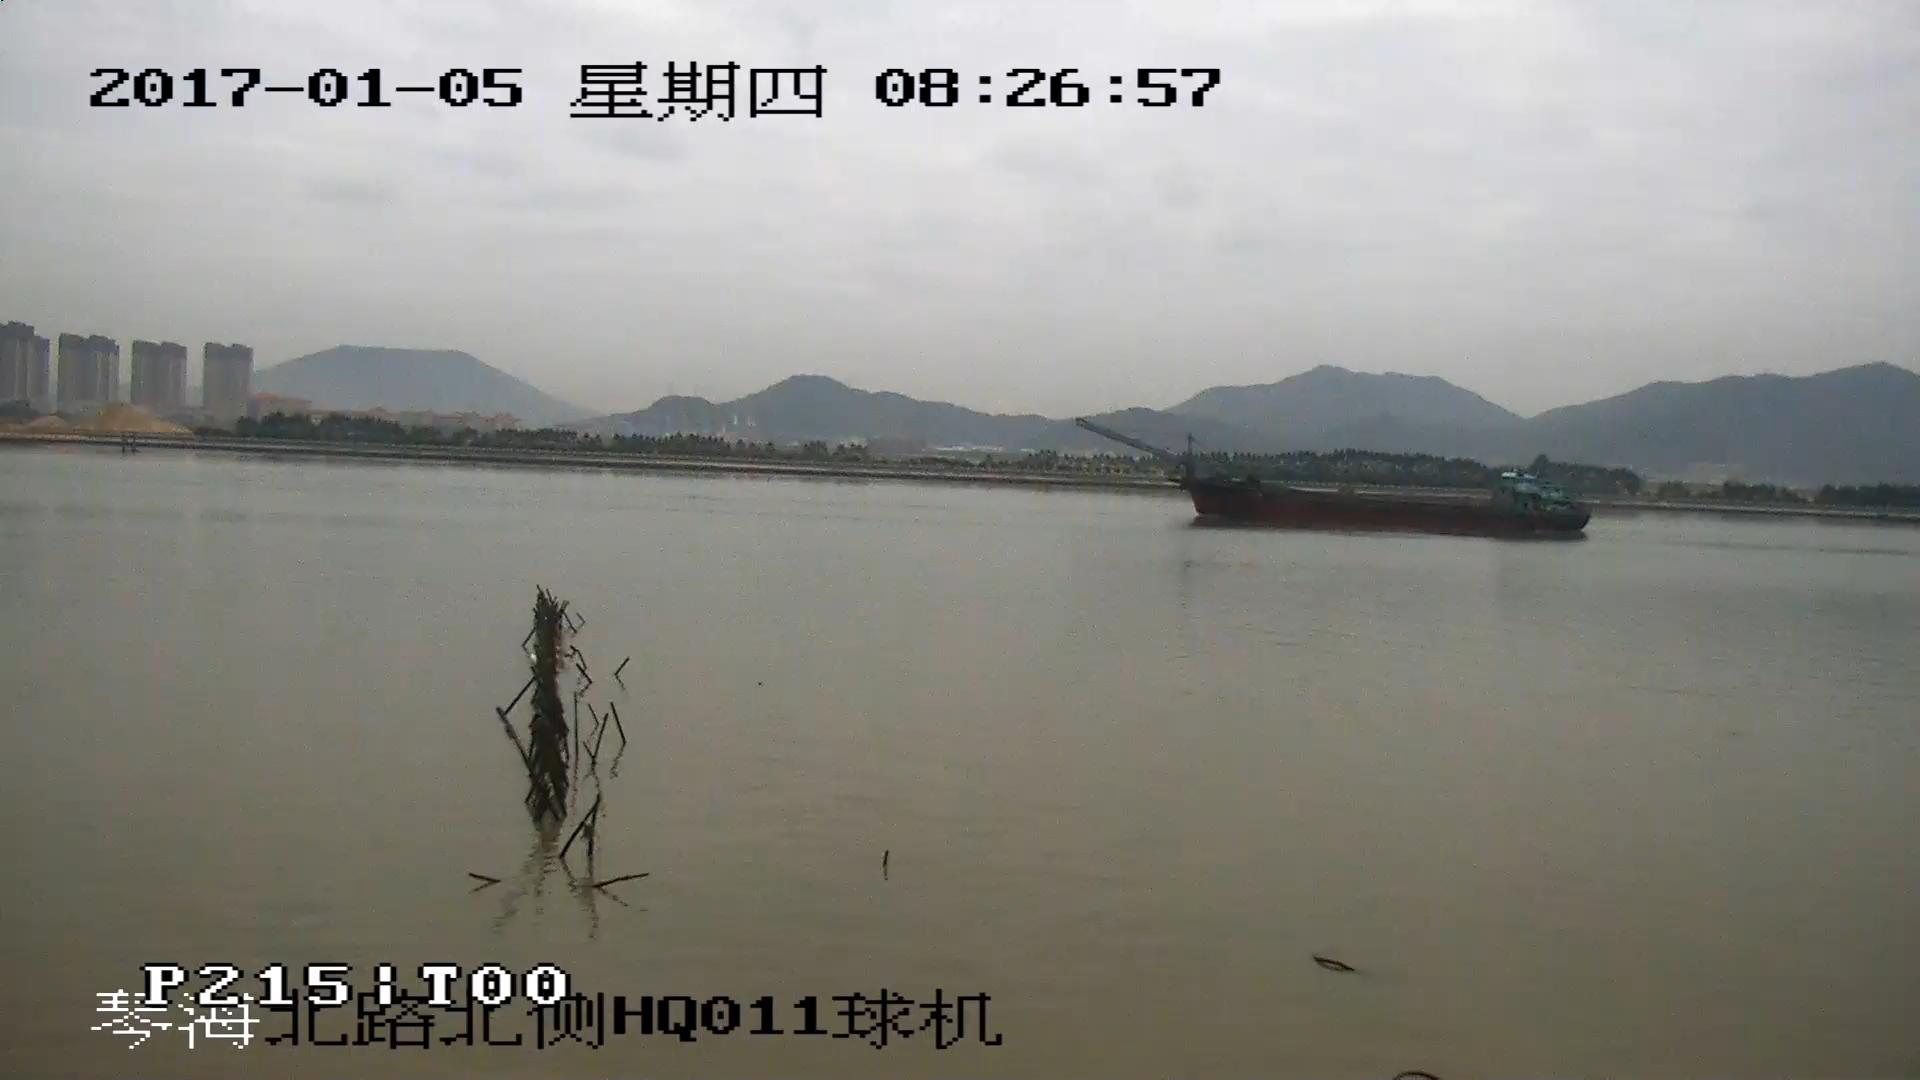bulk cargo carrier: (1082, 420, 1588, 535)
